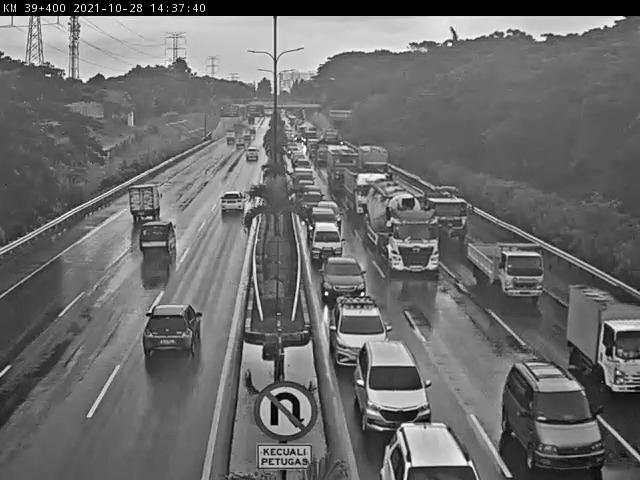big truck: (368, 189, 441, 273), (411, 178, 468, 229), (343, 170, 387, 214)
car: (497, 358, 611, 476), (376, 415, 477, 480), (123, 291, 216, 361), (351, 340, 433, 418), (328, 292, 397, 359), (315, 259, 371, 309), (136, 217, 189, 262), (306, 222, 343, 261), (216, 188, 249, 219), (308, 207, 337, 227), (312, 204, 345, 221), (239, 150, 265, 168), (296, 184, 325, 195)
small truck: (550, 273, 640, 387), (467, 236, 554, 296), (113, 190, 161, 226)
